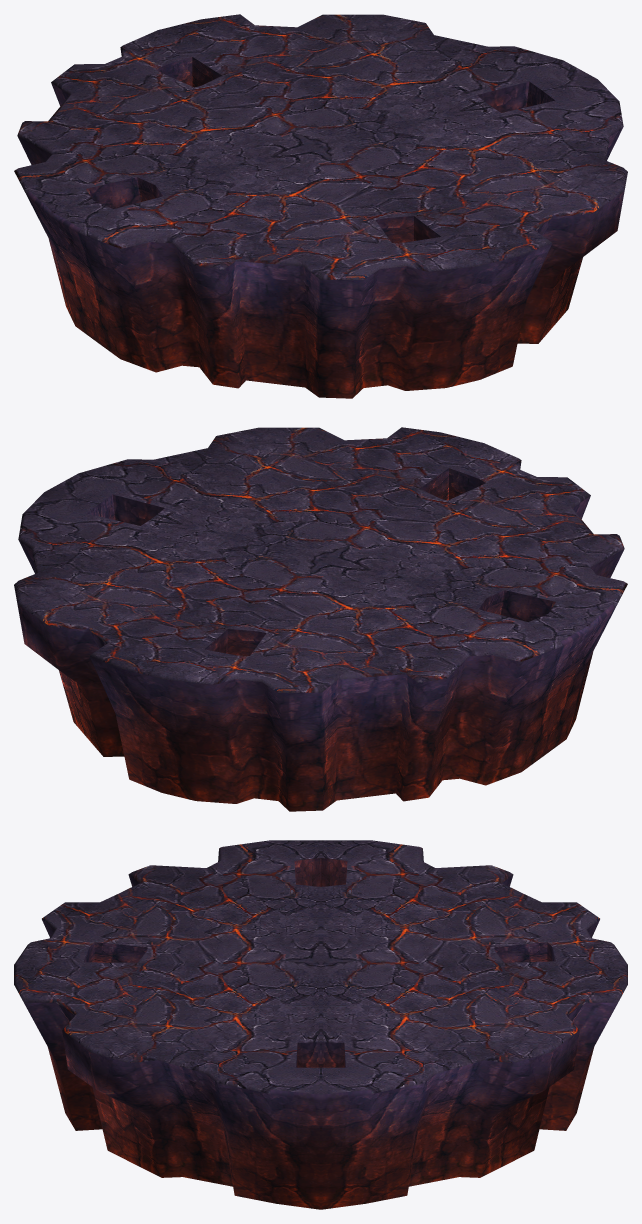
The model's file is 10509_BossPlatform.FBX.
3 renders of one model, top to bottom at view 1: azimuth 30°, elevation 25°; view 2: azimuth 150°, elevation 25°; view 3: azimuth 270°, elevation 25°, orthographic. The views are drawn at different scales.
Parts seen in each view (by area): view 1: 10504_BossPlatform001; view 2: 10504_BossPlatform001; view 3: 10504_BossPlatform001.
Boxes of the visible parts, x1,y1,x2,y2 form: 10504_BossPlatform001: (14, 14, 627, 398); 10504_BossPlatform001: (14, 427, 627, 811); 10504_BossPlatform001: (14, 840, 627, 1209).
Size of the model in its own units: 2415 by 600 by 2435.
